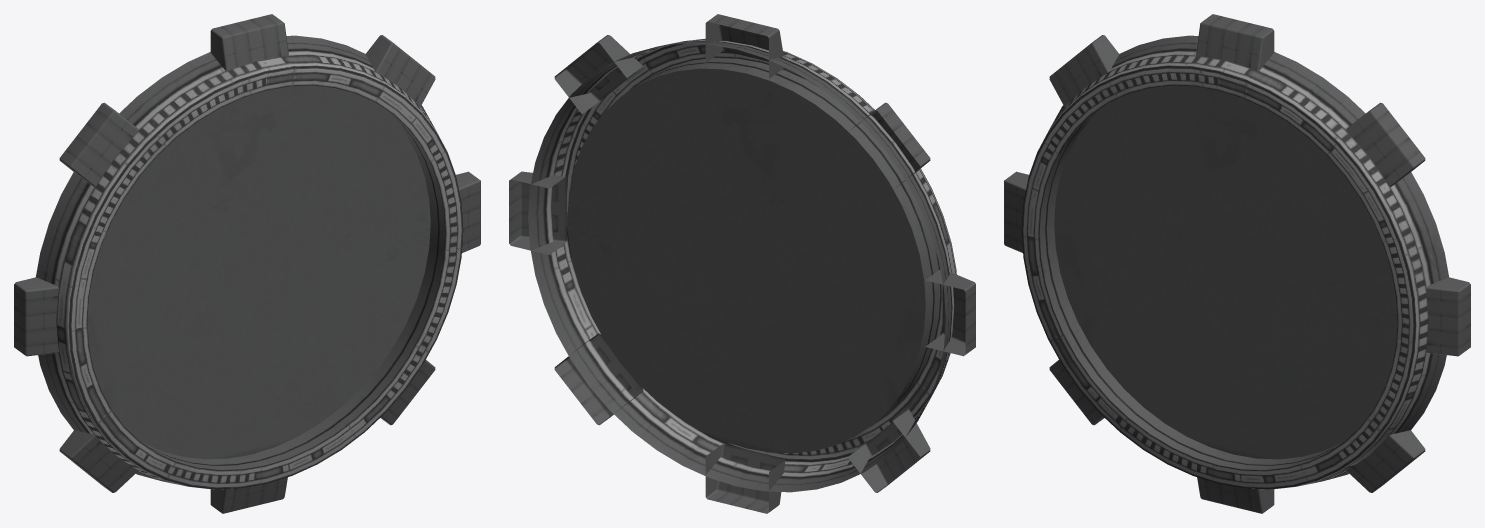
File: Subway_Vents_Ring2.fbx
3 renders of one model, left to right at view 1: azimuth 30°, elevation 25°; view 2: azimuth 150°, elevation 25°; view 3: azimuth 330°, elevation 25°, orthographic.
Parts seen in each view (by area): view 1: polySurface1537; view 2: polySurface1537; view 3: polySurface1537.
Boxes of the visible parts, x1=… form: polySurface1537: x1=14, y1=14, x2=480, y2=513; polySurface1537: x1=509, y1=14, x2=975, y2=513; polySurface1537: x1=1004, y1=14, x2=1470, y2=513.
Size of the model in its own units: 81.91 by 81.91 by 7.65.
